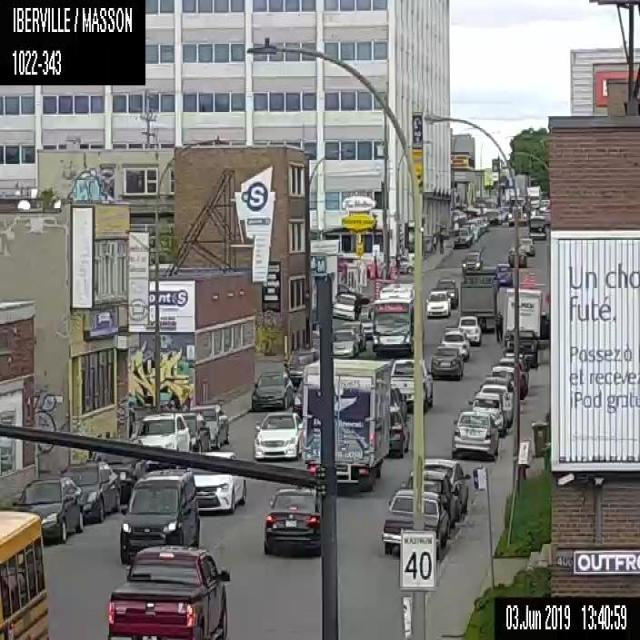bus: (0, 511, 53, 638), (367, 282, 418, 356)
construction: (529, 272, 535, 288), (522, 272, 528, 288), (373, 279, 378, 297), (390, 261, 394, 280)
pedestrian: (493, 308, 502, 344), (431, 230, 437, 258)
vehicle: (303, 355, 390, 494), (107, 544, 230, 638), (119, 467, 199, 565), (12, 475, 83, 541), (381, 490, 449, 556), (399, 468, 458, 536), (186, 451, 247, 514), (85, 441, 146, 504), (59, 461, 120, 523), (261, 484, 317, 549), (129, 413, 191, 467), (419, 458, 471, 520), (458, 264, 498, 337), (253, 410, 303, 461), (452, 409, 498, 461), (390, 358, 432, 414), (504, 286, 542, 338), (250, 367, 294, 411), (189, 402, 229, 450), (468, 390, 505, 438), (474, 385, 513, 429), (503, 329, 540, 372), (177, 411, 211, 454), (282, 350, 318, 390), (497, 358, 528, 400), (431, 345, 463, 382), (387, 406, 409, 459), (440, 326, 469, 363), (330, 328, 360, 358), (338, 320, 366, 352), (431, 277, 458, 310), (456, 314, 481, 346), (425, 288, 450, 319), (389, 386, 409, 424), (507, 193, 530, 226), (332, 292, 356, 321), (478, 377, 514, 392), (484, 366, 514, 384), (528, 214, 546, 241), (461, 250, 482, 272), (493, 263, 512, 287), (452, 226, 472, 248), (507, 247, 527, 267), (516, 235, 534, 257), (526, 185, 541, 209), (359, 311, 372, 338), (109, 634, 150, 638)
